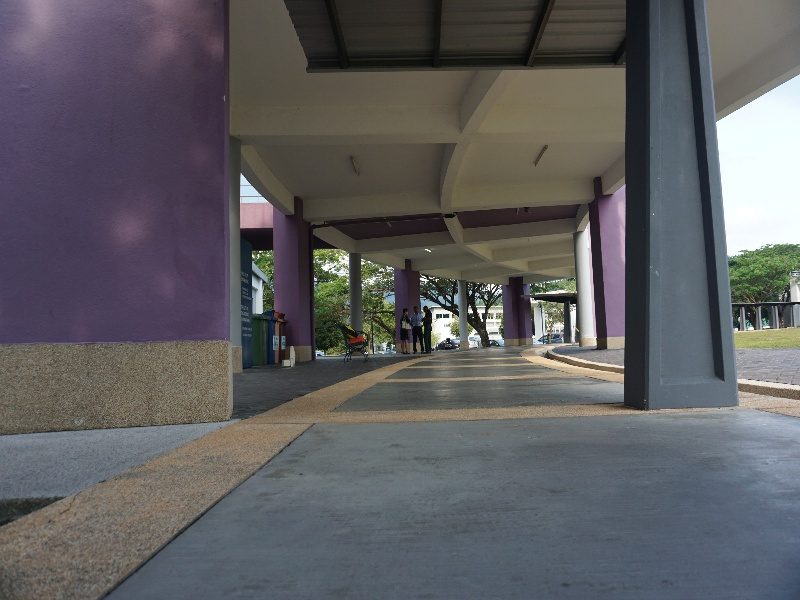Block D Pillar 1: (5, 2, 800, 497)
pillar: (9, 6, 239, 433), (620, 11, 736, 411), (267, 194, 314, 363), (501, 274, 530, 350), (451, 277, 474, 353), (350, 249, 366, 350)
